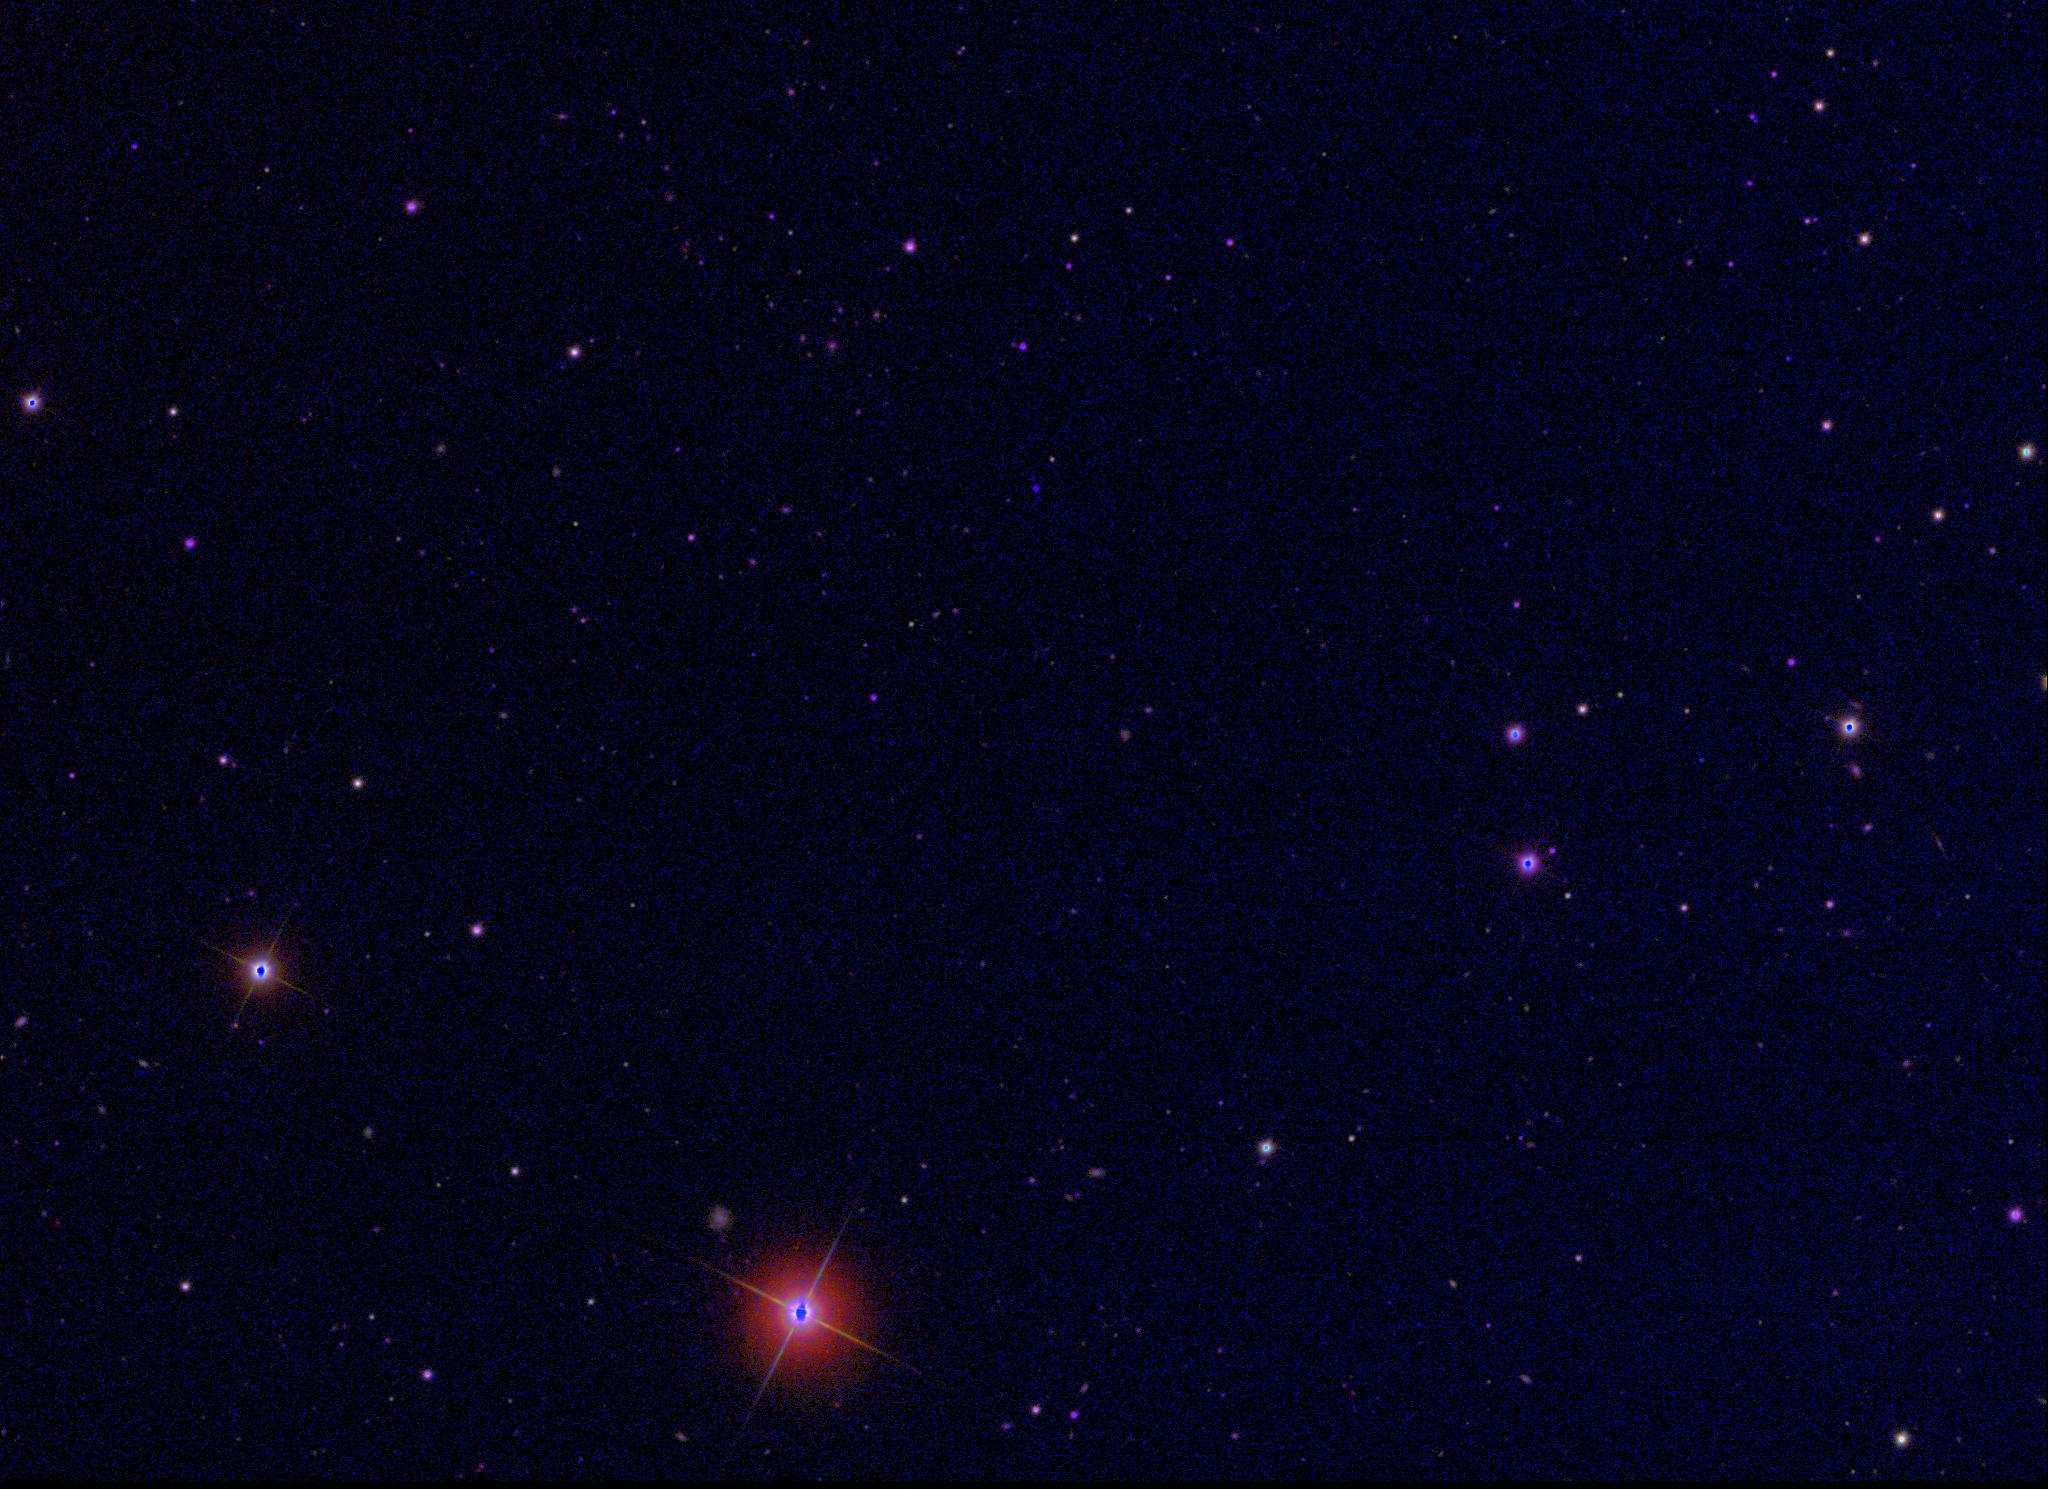L: (1030, 479, 1045, 493)
